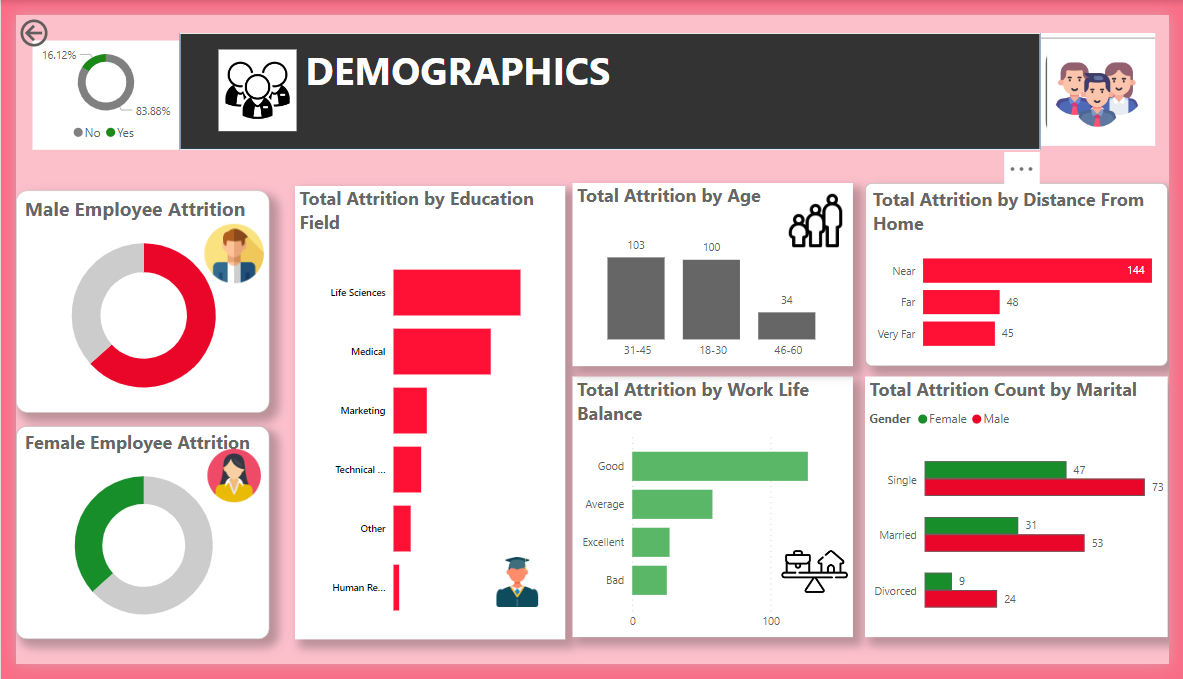

The dashboard page shown, as its layout file describes it:
{"tool":"powerbi","page":{"name":"DEMOGRAPHICS","canvas":[1280,720],"ordinal":1},"visuals":[{"type":"cardVisual","fields":{"Data":["CountNonNull(HR-Employee-Attrition.EmployeeNumber)"]},"box":[1136.8,20.6,127.5,125.4],"z":0},{"type":"clusteredBarChart","title":"Total Attrition by Education Field","fields":{"Y":["CountNonNull(HR-Employee-Attrition.Attrition)"],"Category":["HR-Employee-Attrition.EducationField"]},"box":[310.4,189.1,300.1,503.6],"z":1000},{"type":"donutChart","fields":{"Category":["HR-Employee-Attrition.Attrition"],"Y":["CountNonNull(HR-Employee-Attrition.EducationField)"]},"box":[18.5,28.8,162.4,121.3],"z":2000},{"type":"actionButton","box":[0,0,100,40],"z":3000},{"type":"barChart","title":"Total Attrition by Work Life Balance ","fields":{"Category":["HR-Employee-Attrition.WorkLifeBalance (groups)"],"Y":["Sum(HR-Employee-Attrition.Attrition Count)"]},"box":[617.8,402,311.3,289.4],"z":4000},{"type":"barChart","title":"Total Attrition by Distance From Home ","fields":{"Category":["HR-Employee-Attrition.DistanceFromHome (groups)"],"Y":["Sum(HR-Employee-Attrition.Attrition Count)"]},"box":[943.2,186.1,336.3,203.3],"z":5000},{"type":"columnChart","title":"Total Attrition by Age","fields":{"Category":["HR-Employee-Attrition.Age (groups)"],"Y":["Sum(HR-Employee-Attrition.Attrition Count)"]},"box":[617.8,186.1,311.3,203.3],"z":6000},{"type":"clusteredBarChart","title":"Total Attrition Count by Marital","fields":{"Category":["HR-Employee-Attrition.MaritalStatus"],"Y":["Sum(HR-Employee-Attrition.Attrition Count)"],"Series":["HR-Employee-Attrition.Gender"]},"box":[943.2,402,336.3,289.4],"z":7000},{"type":"donutChart","title":"Male Employee Attrition","fields":{"Category":["HR-Employee-Attrition.Gender"],"Y":["Sum(HR-Employee-Attrition.Attrition Count)"]},"box":[0,195.3,281.6,246.7],"z":8000},{"type":"donutChart","title":"Female Employee Attrition ","fields":{"Category":["HR-Employee-Attrition.Gender"],"Y":["Sum(HR-Employee-Attrition.Attrition Count)"]},"box":[0,456.4,281.6,236.4],"z":9000},{"type":"shape","box":[180.9,20.6,955.9,129.5],"z":10000},{"type":"image","box":[203.5,226.1,78.1,76.1],"z":11000},{"type":"image","box":[203.5,476.9,78.1,69.9],"z":12000},{"type":"image","box":[853.1,189.1,69.9,76.1],"z":13000},{"type":"image","box":[844.9,573.5,84.3,90.4],"z":14000},{"type":"image","box":[520.1,594.1,74,69.9],"z":15000},{"type":"image","box":[224.1,39.1,86.3,90.4],"z":16000}]}

Visuals, with their boxes in screenshot pixels (x1, y1, x2, y2), scaled from the page's 1280x720 canvas onto the 1183x679 screenshot:
cardVisual - CountNonNull(HR-Employee-Attrition.EmployeeNumber): box(1051, 19, 1168, 138)
"Total Attrition by Education Field" clusteredBarChart: box(287, 178, 564, 653)
donutChart - HR-Employee-Attrition.Attrition x CountNonNull(HR-Employee-Attrition.EducationField): box(17, 27, 167, 142)
actionButton: box(0, 0, 92, 38)
"Total Attrition by Work Life Balance " barChart: box(571, 379, 859, 652)
"Total Attrition by Distance From Home " barChart: box(872, 176, 1182, 367)
"Total Attrition by Age" columnChart: box(571, 176, 859, 367)
"Total Attrition Count by Marital" clusteredBarChart: box(872, 379, 1182, 652)
"Male Employee Attrition" donutChart: box(0, 184, 260, 417)
"Female Employee Attrition " donutChart: box(0, 430, 260, 653)
shape: box(167, 19, 1051, 142)
image: box(188, 213, 260, 285)
image: box(188, 450, 260, 516)
image: box(788, 178, 853, 250)
image: box(781, 541, 859, 626)
image: box(481, 560, 549, 626)
image: box(207, 37, 287, 122)
